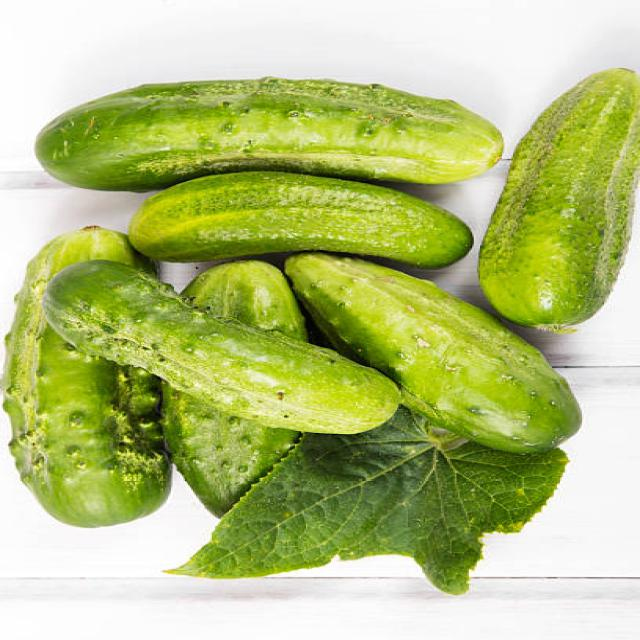cucumber: (43, 260, 400, 431), (288, 250, 583, 454), (34, 78, 503, 192), (10, 228, 180, 525), (475, 67, 640, 324), (128, 165, 477, 267)
